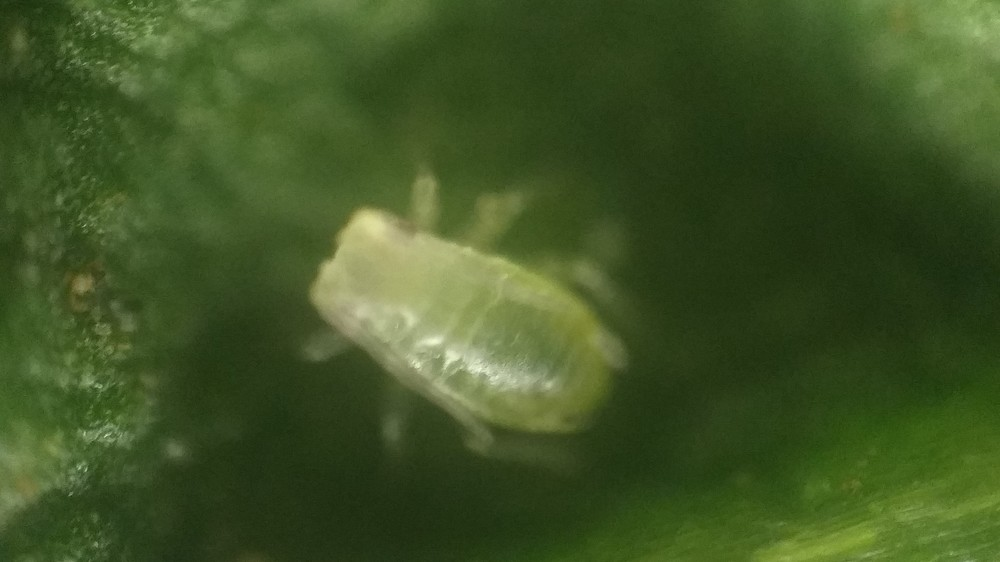Pulgon: (249, 141, 713, 504)
